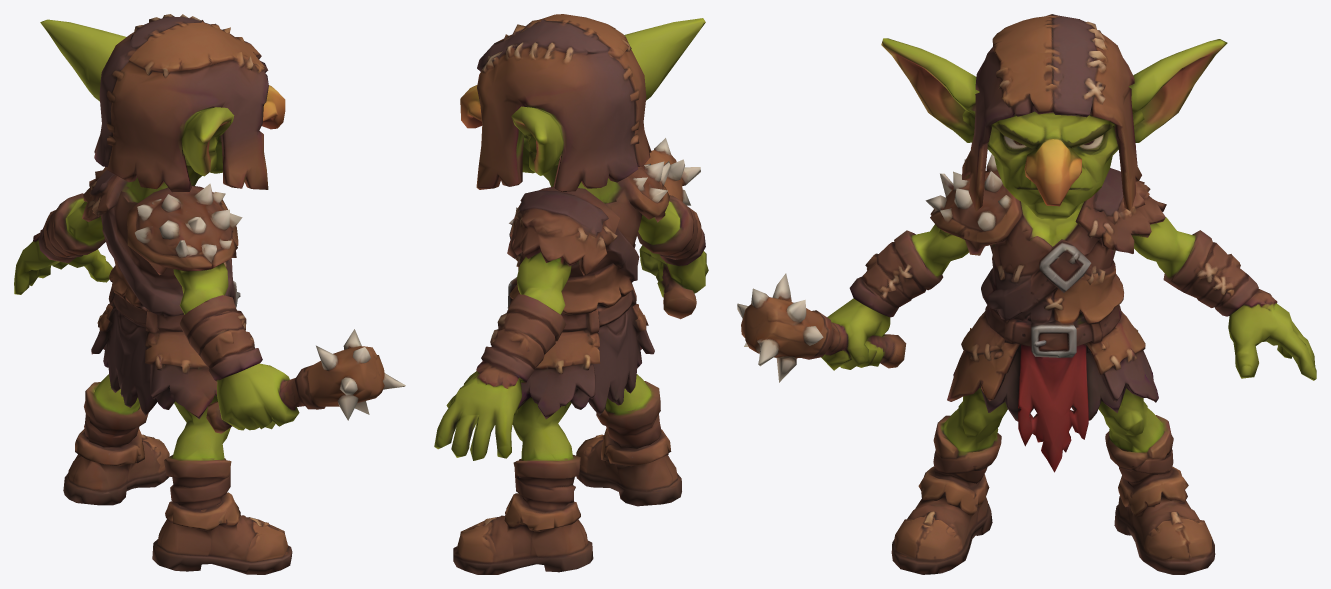
The model's file is raider_raw.glb.
3 renders of one model, left to right at view 1: azimuth 30°, elevation 25°; view 2: azimuth 150°, elevation 25°; view 3: azimuth 270°, elevation 25°, orthographic. The views are drawn at different scales.
Parts seen in each view (by area): view 1: tripo_node_8ac09d56-8e5e-419a-a822-74ccb4b402ea; view 2: tripo_node_8ac09d56-8e5e-419a-a822-74ccb4b402ea; view 3: tripo_node_8ac09d56-8e5e-419a-a822-74ccb4b402ea.
Boxes of the visible parts, left/top/right/bottom form: tripo_node_8ac09d56-8e5e-419a-a822-74ccb4b402ea: left=14, top=14, right=405, bottom=574; tripo_node_8ac09d56-8e5e-419a-a822-74ccb4b402ea: left=434, top=14, right=708, bottom=574; tripo_node_8ac09d56-8e5e-419a-a822-74ccb4b402ea: left=737, top=14, right=1316, bottom=574.
Bounding box in the file's own units: 0.3723 × 1 × 0.997.
Materials: 1 (1 with a texture image).
